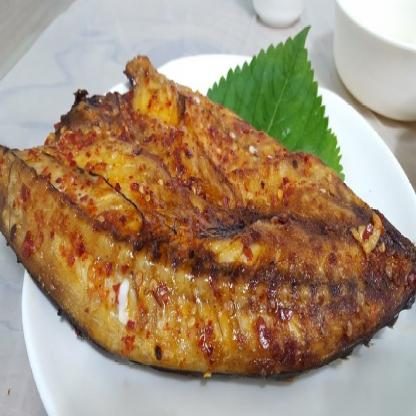Peixe: (0, 34, 416, 409)
